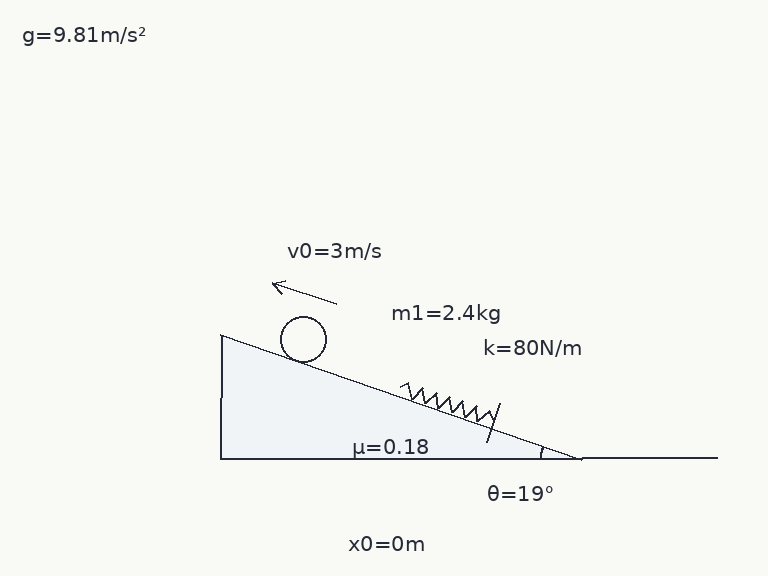ball: (278, 314, 328, 364)
ramp: (219, 333, 583, 461)
spring: (398, 381, 496, 423)
